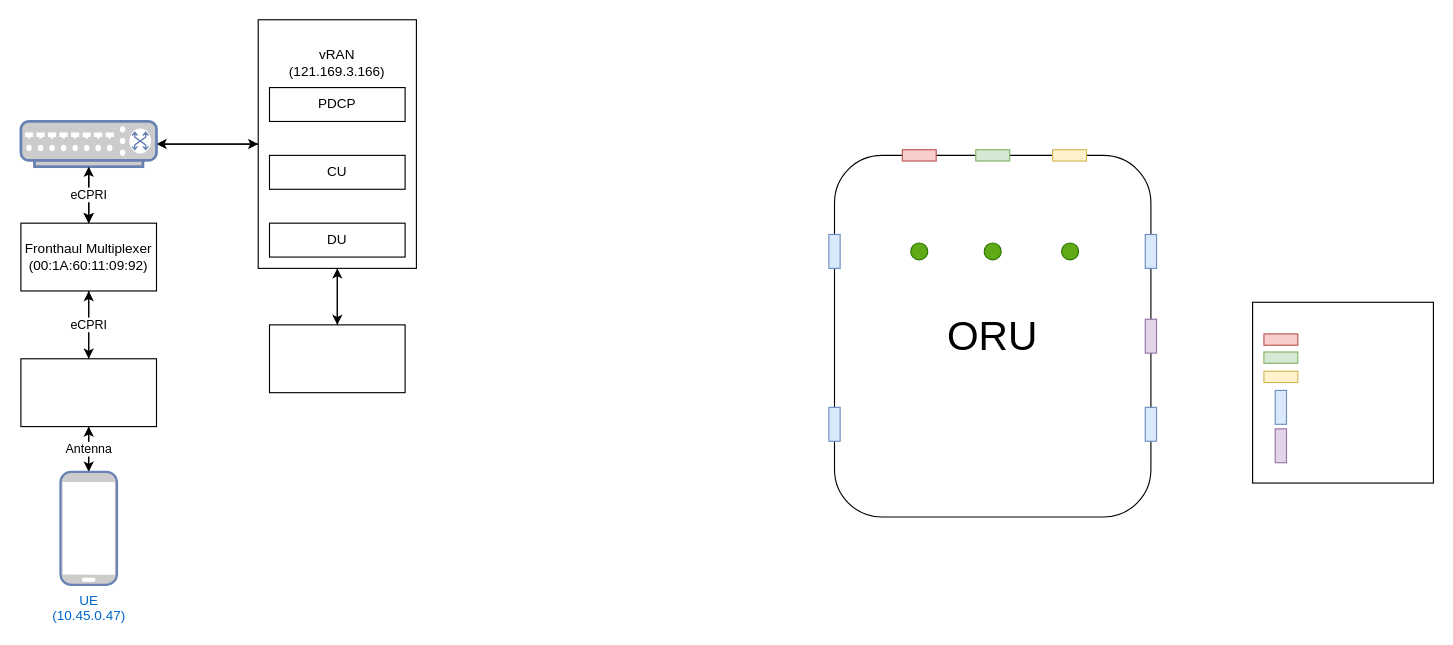
Image size: 1453x645. Some labels were removed from this diagram. The centre of each missing label's shape, as x and y in pixels:
"10G SWITCH" goes at (x=88, y=143).
"5G Core (10.45.0.1)" goes at (x=336, y=358).
"ORU (00:1A:60:12:9E:F3)" goes at (x=88, y=392).
"Power 1G RJ-45 10G SFP Antenna 0~3 USB 2.0" goes at (x=1342, y=392).
